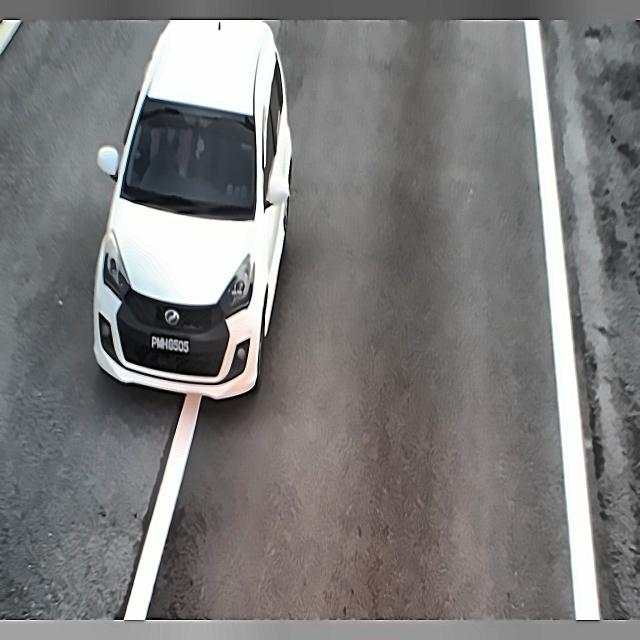car: (146, 324, 196, 370)
